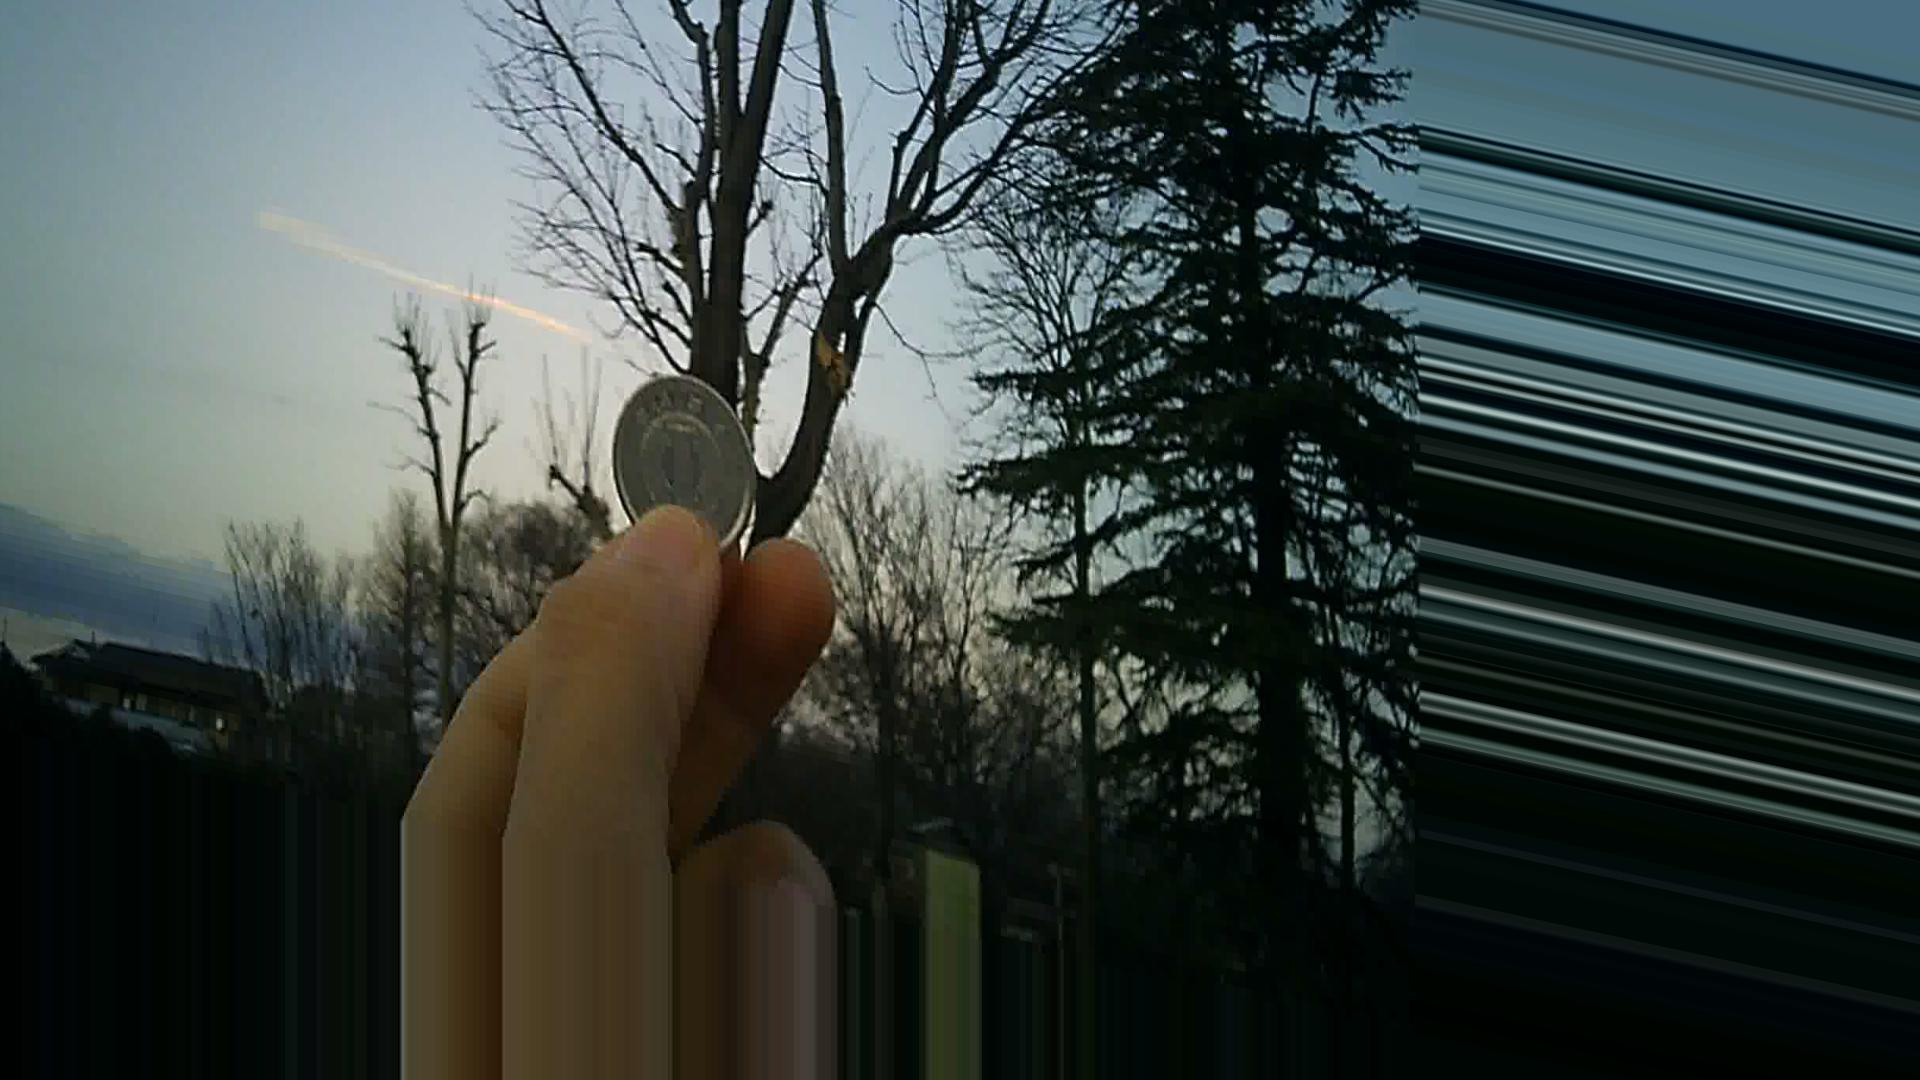1 Yen: (608, 365, 764, 560)
